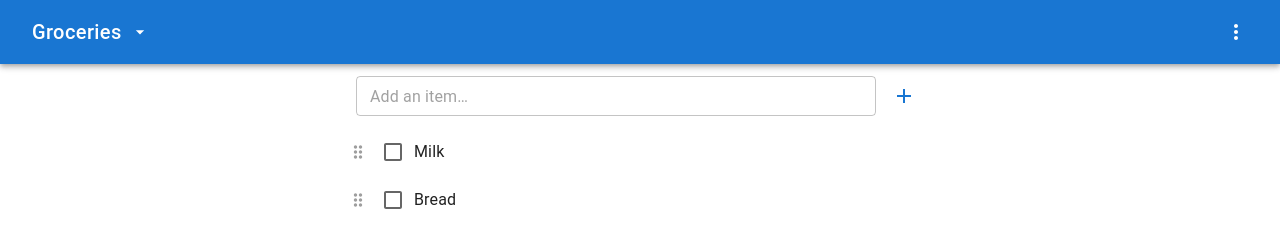
Test: AisleFlow › deletes on a committed right-to-left swipe
Step 1. Press the mouse on the element showing "Milk" → point(640, 152), box x1=340 y1=128 x2=940 y2=176
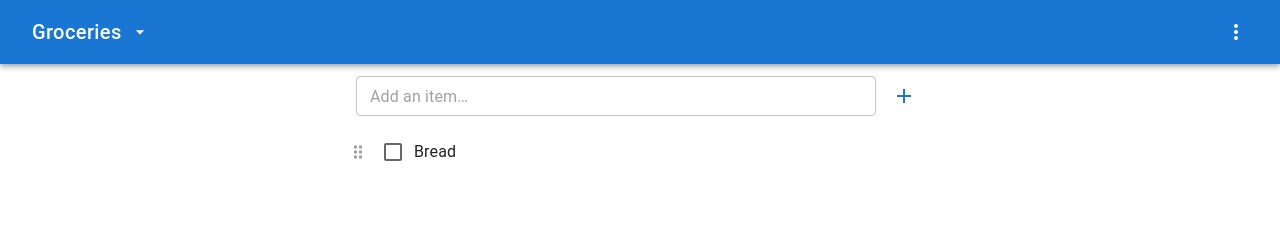
Expected: the text "Bread" is shown, x1=414 y1=142 x2=456 y2=161
Expected: the text "Milk" is gone
